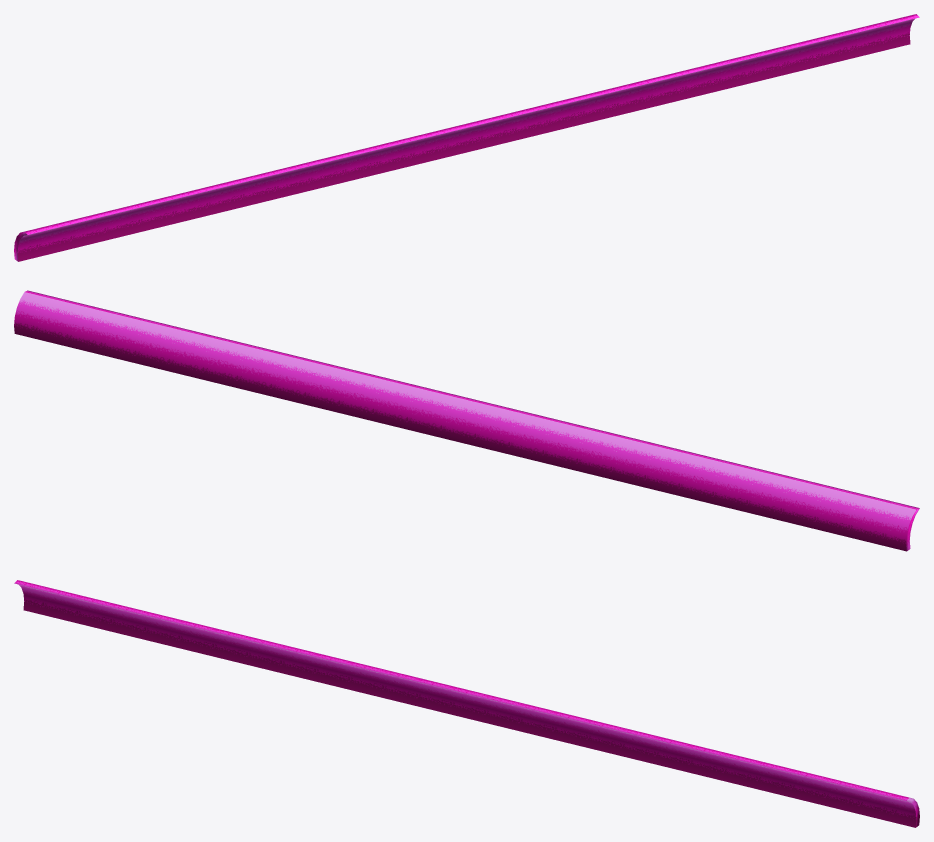
The model's file is Medium.fbx.
3 renders of one model, top to bottom at view 1: azimuth 30°, elevation 25°; view 2: azimuth 150°, elevation 25°; view 3: azimuth 330°, elevation 25°, orthographic.
Visible parts, largest first — view 1: Medium; view 2: Medium; view 3: Medium.
Part boxes in pixels (x1,y1,x2,y2): Medium: [14, 14, 919, 261]; Medium: [14, 290, 919, 551]; Medium: [14, 580, 919, 827].
Size of the model in its own units: 747 by 27.78 by 20.04.
